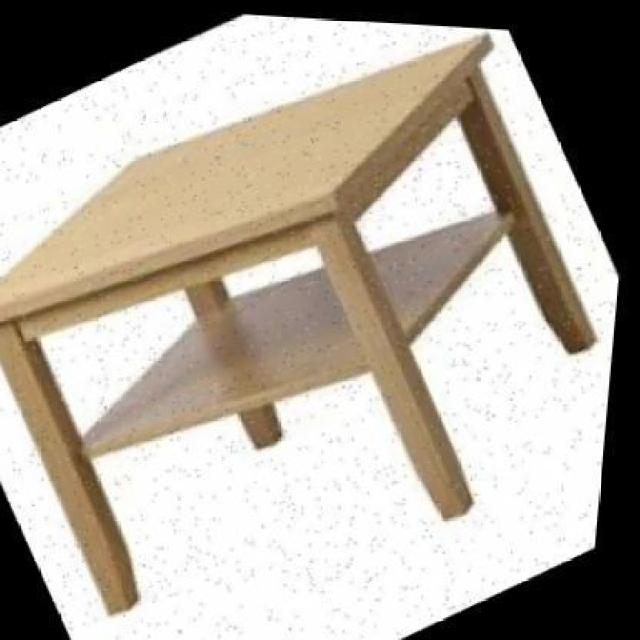tables: (0, 10, 615, 626)
